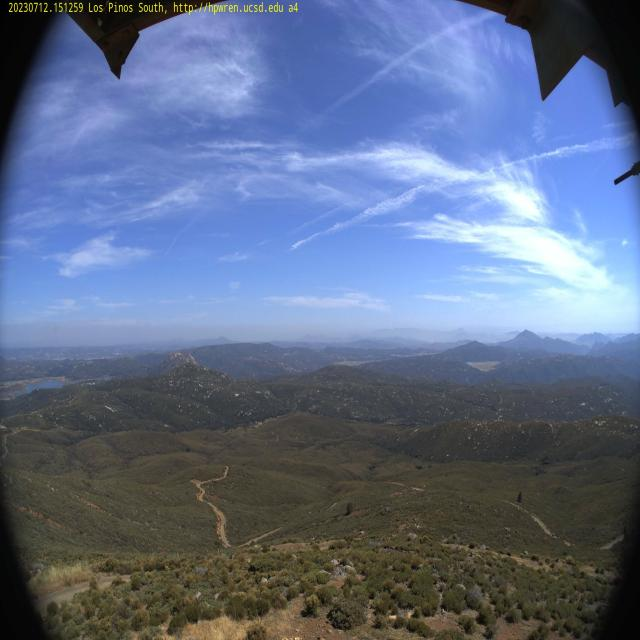smoke: (32, 300, 70, 358)
